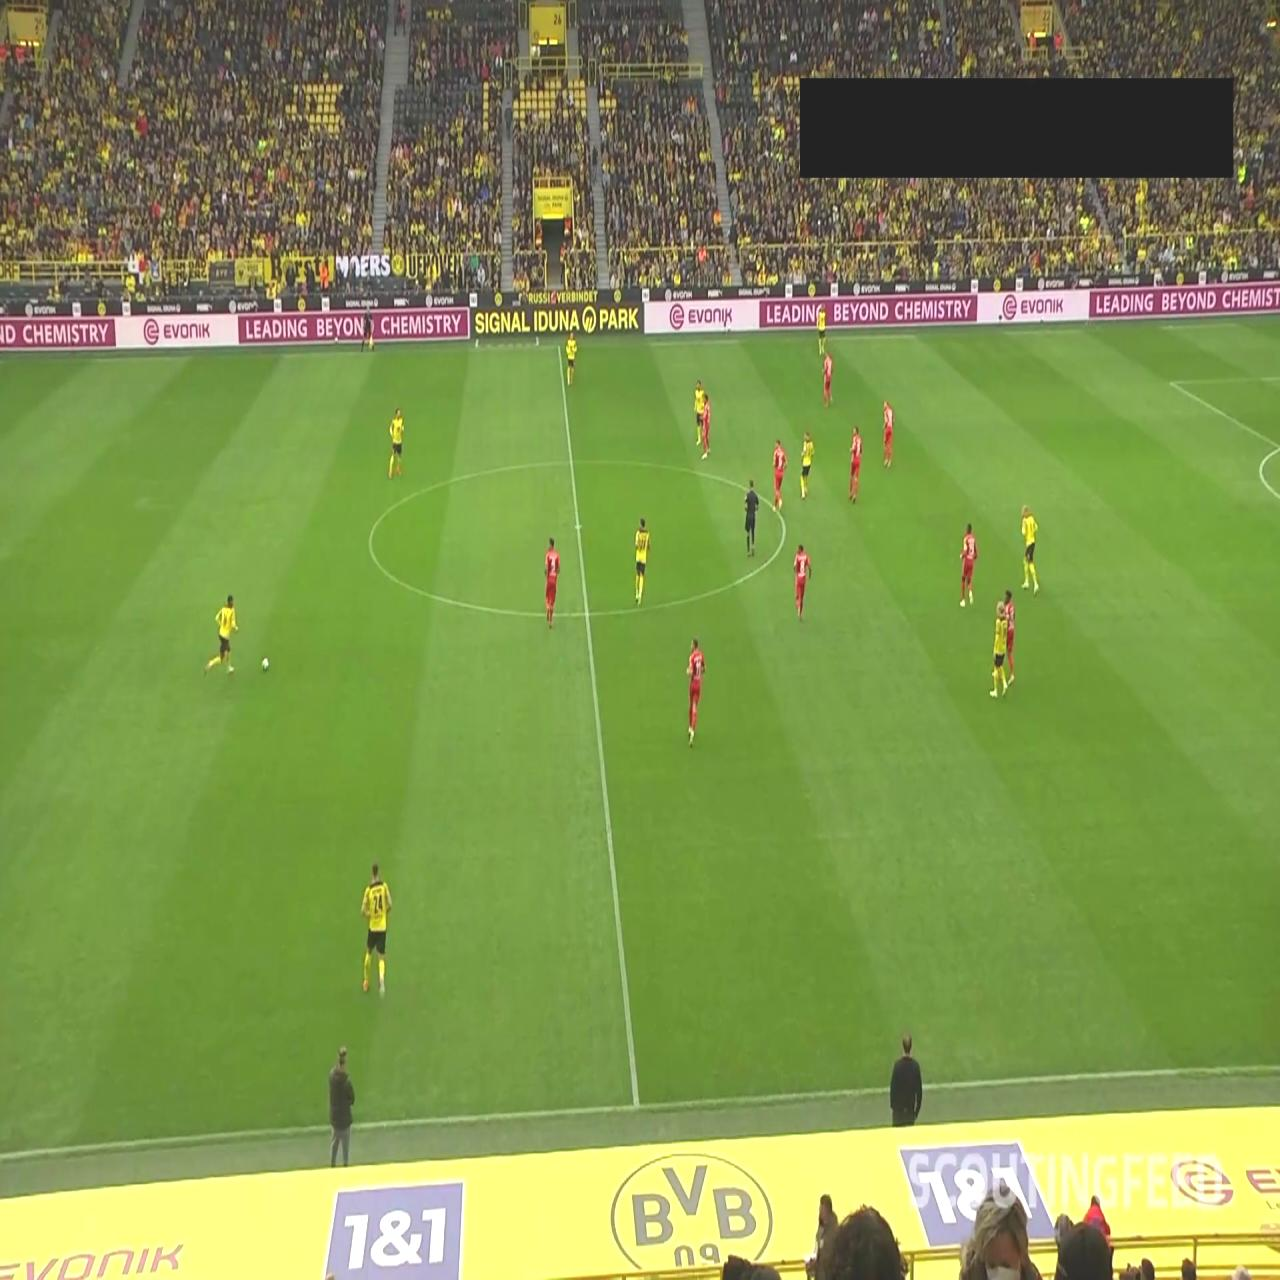ball: (262, 658, 269, 672)
player: (360, 860, 392, 998), (203, 594, 240, 678), (687, 636, 706, 746), (990, 602, 1009, 698), (1020, 505, 1040, 595), (959, 523, 978, 608), (634, 515, 651, 607), (794, 542, 812, 624), (544, 537, 560, 628), (1003, 589, 1016, 683), (388, 408, 405, 479), (848, 424, 862, 504), (772, 439, 787, 513), (800, 429, 814, 498), (694, 379, 706, 447), (883, 401, 894, 469), (565, 329, 578, 386), (702, 396, 712, 460), (823, 352, 833, 408), (816, 304, 826, 356)
referee: (743, 479, 759, 557), (360, 308, 374, 353)
